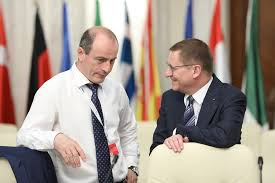F_shirt: (20, 68, 145, 181)
F_tie: (83, 82, 111, 181), (181, 94, 197, 138)
